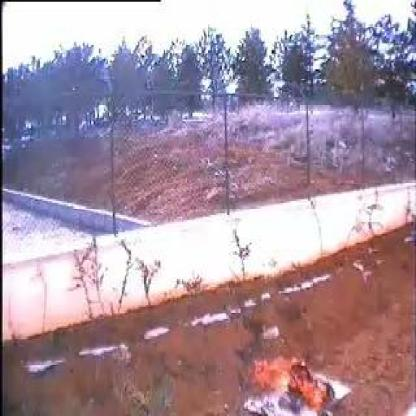foggia-v2-map80-epoch100 - v1 4323: (261, 362, 327, 409)
